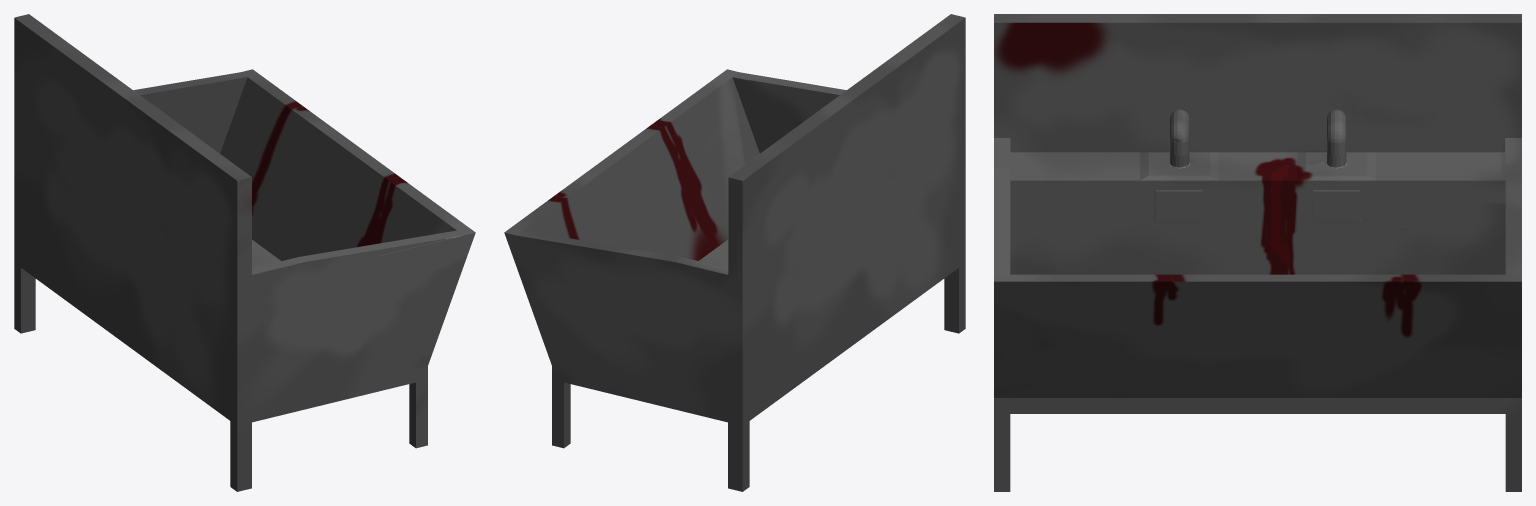
The model's file is Sink.fbx.
3 renders of one model, left to right at view 1: azimuth 30°, elevation 25°; view 2: azimuth 150°, elevation 25°; view 3: azimuth 270°, elevation 25°, orthographic. The views are drawn at different scales.
Visible parts, largest first — view 1: Sink; view 2: Sink; view 3: Sink.
Part boxes in pixels (x1,y1,x2,y2): Sink: (14,14,475,491); Sink: (504,14,965,491); Sink: (994,14,1521,491).
Size of the model in its own units: 370 by 462 by 600.
Materials: 1 (1 with a texture image).
